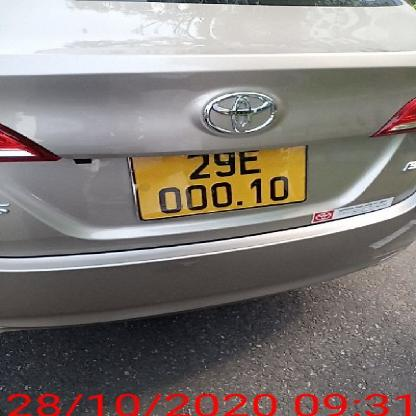biensoxe: (126, 138, 319, 226)
